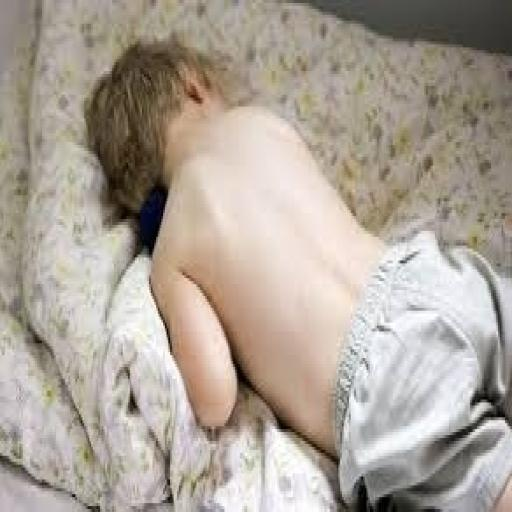sleeping: (82, 30, 510, 509)
